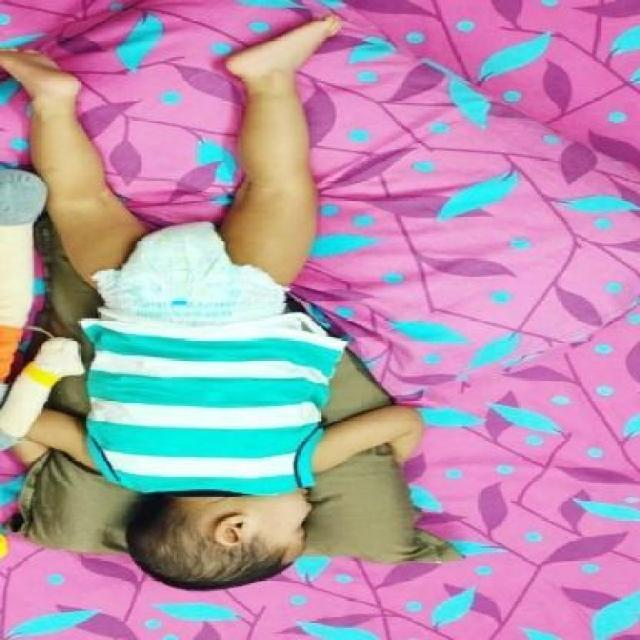baby: (0, 15, 426, 594)
